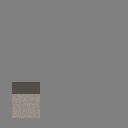supply_truck: (12, 82, 40, 118)
